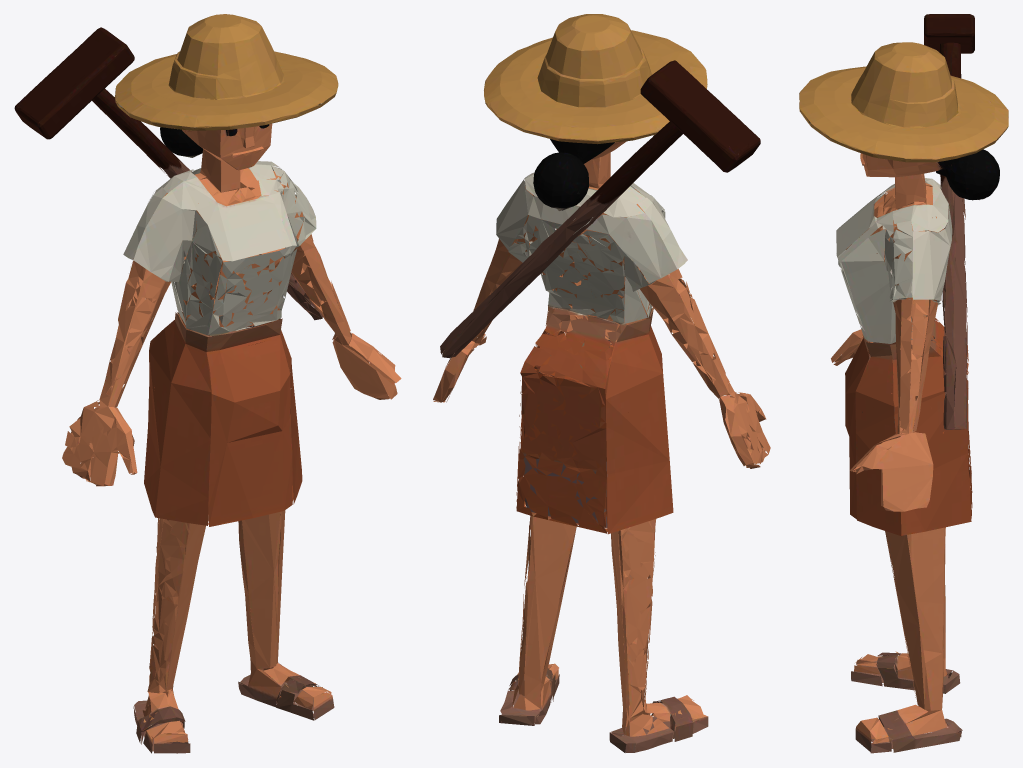
File: habitant.glb
The picture shows the model from 3 angles, left to right: view 1: azimuth 30°, elevation 25°; view 2: azimuth 150°, elevation 25°; view 3: azimuth 270°, elevation 25°; orthographic projection. The views are drawn at different scales.
Visible parts, largest first — view 1: world; view 2: world; view 3: world.
Part boxes in pixels (x1,y1,x2,y2): world: (14,14,401,753); world: (433,14,770,752); world: (799,14,1008,753).
Size of the model in its own units: 0.5082 by 1 by 0.287.
Materials: 1 (1 with a texture image).
